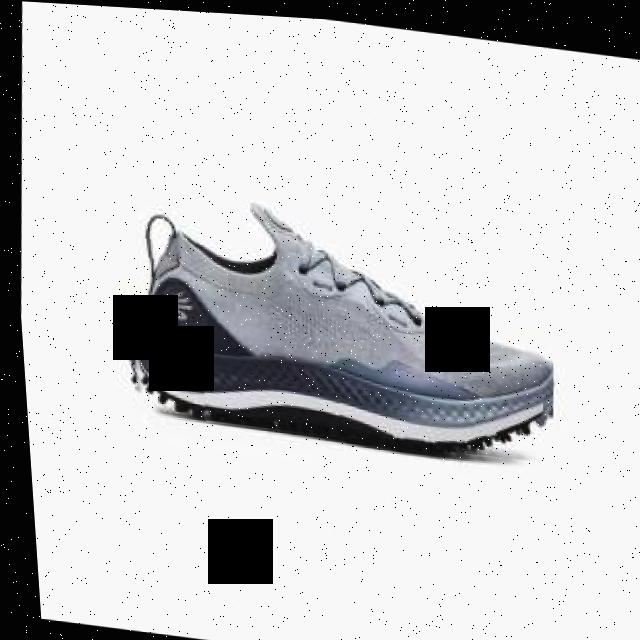shoe: (108, 185, 562, 461)
